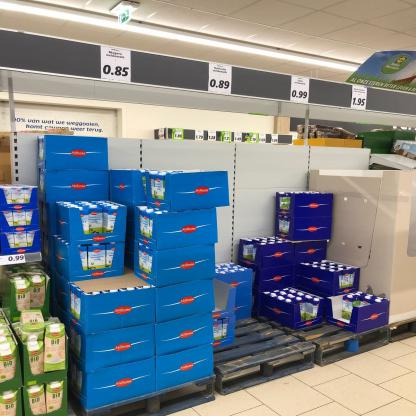prtg: (102, 47, 132, 83), (210, 64, 233, 95), (291, 77, 311, 104), (352, 86, 368, 111), (1, 255, 27, 266)
